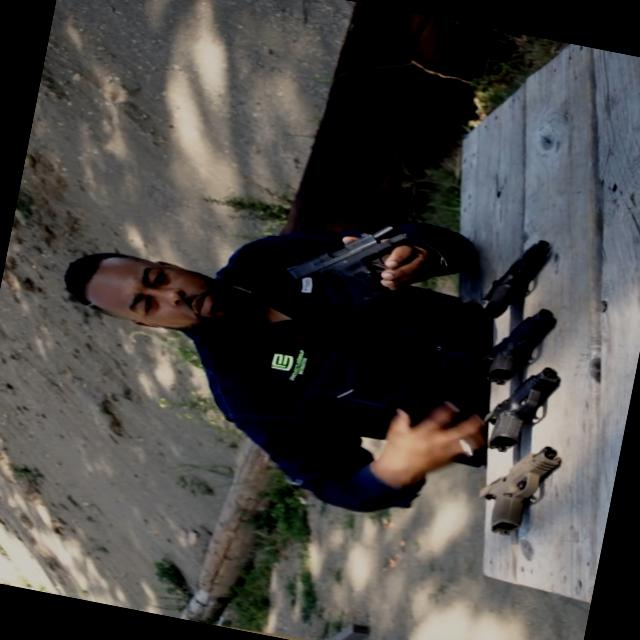handgun: (273, 214, 419, 316), (464, 428, 576, 558), (469, 342, 574, 472), (464, 231, 558, 331), (472, 296, 560, 394)
